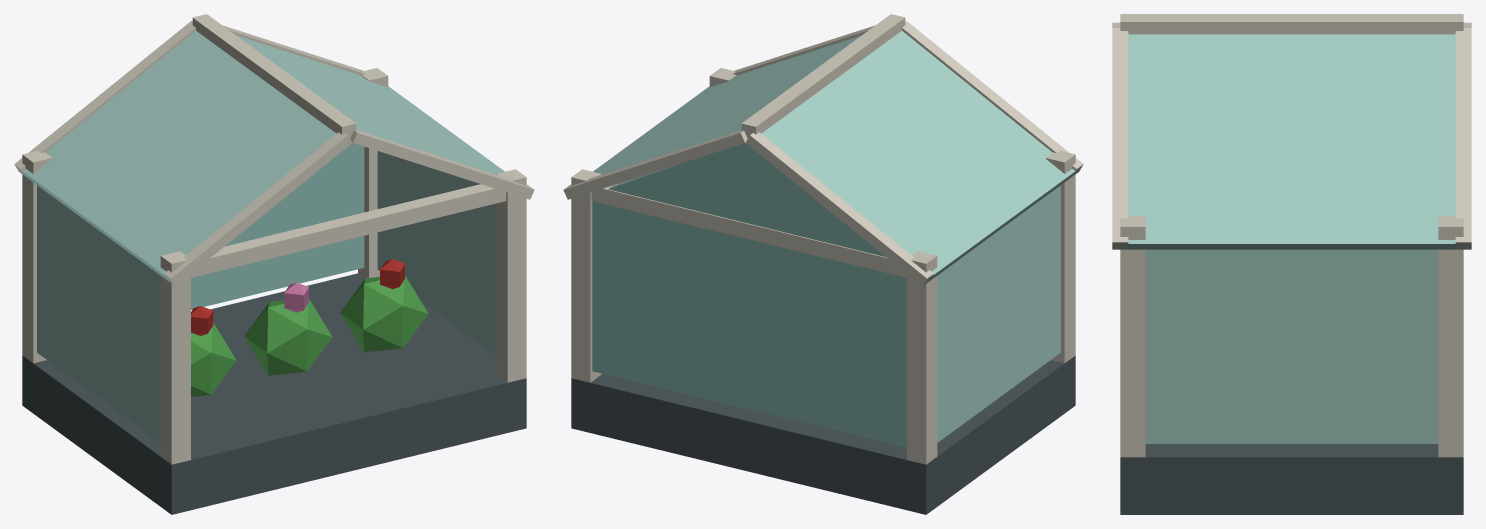
The model's file is prop_greenhouse.glb.
3 views of the same model, side by side, from view 1: azimuth 30°, elevation 25°; view 2: azimuth 150°, elevation 25°; view 3: azimuth 270°, elevation 25° (orthographic). The views are drawn at different scales.
Parts seen in each view (by area): view 1: prop_greenhouse; view 2: prop_greenhouse; view 3: prop_greenhouse.
Boxes of the visible parts, x1,y1,x2,y2 form: prop_greenhouse: (14,14,534,514); prop_greenhouse: (563,14,1083,514); prop_greenhouse: (1112,14,1471,514).
Size of the model in its own units: 0.7585 by 0.69 by 0.565.
